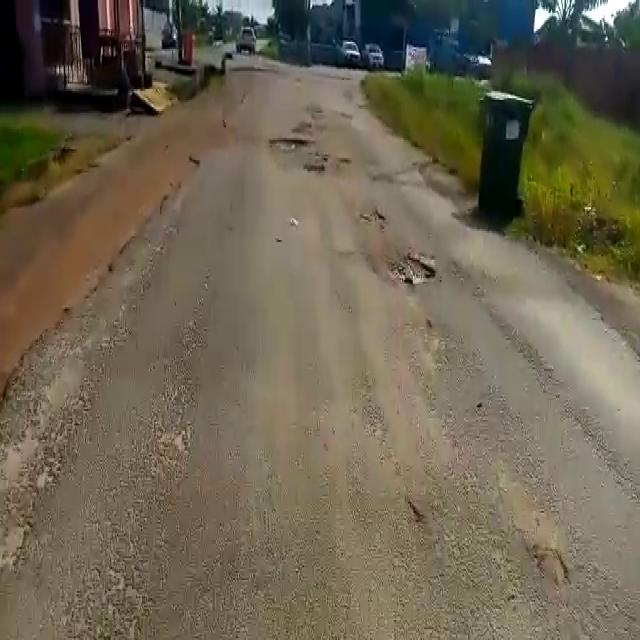Pothole: (375, 250, 440, 290), (266, 132, 310, 150), (302, 165, 327, 175)
